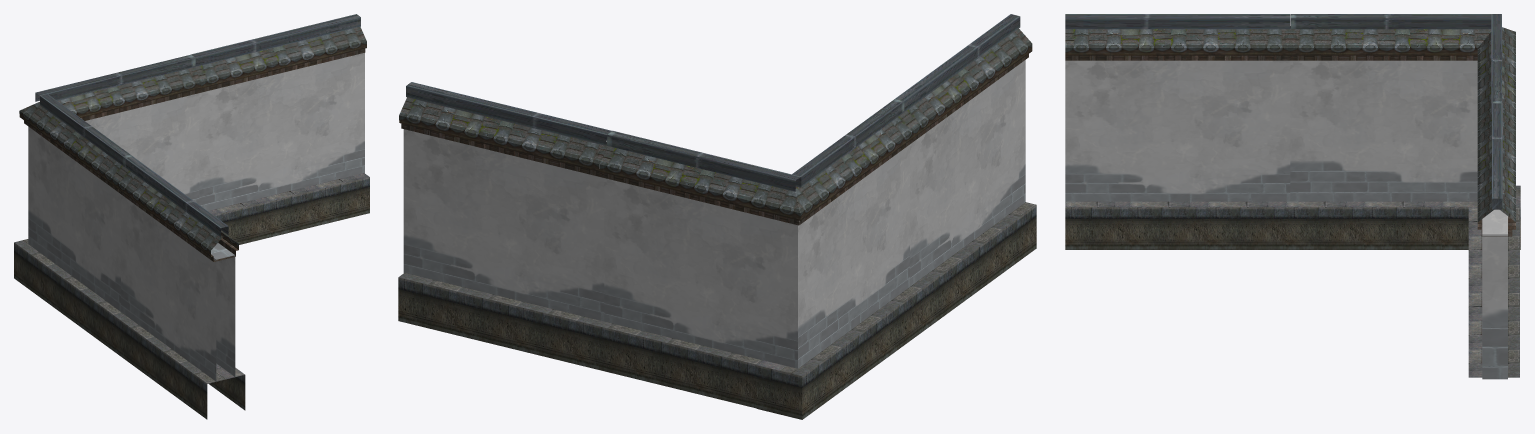
The model's file is house03.fbx.
The picture shows the model from 3 angles, left to right: view 1: azimuth 30°, elevation 25°; view 2: azimuth 150°, elevation 25°; view 3: azimuth 270°, elevation 25°; orthographic projection. The views are drawn at different scales.
Visible parts, largest first — view 1: Box223, Box212, Box215, Box221, Box220, Box222, Box224, Box217, Box213, Box219, Box225, Box218 (+2 smaller); view 2: Box223, Box220, Box222, Box212, Box215, Box221, Box224, Box217, Box213, Box219, Box225, Box218 (+2 smaller); view 3: Box212, Box215, Box221, Box213, Box219, Box223, Box222, Box214, Box216, Box224, Box217, Box225 (+1 smaller).
Part boxes in pixels (<box>): Box223: <box>199,53,364,210</box>; Box212: <box>121,194,235,382</box>; Box215: <box>28,126,120,311</box>; Box221: <box>14,239,245,419</box>; Box220: <box>85,93,199,204</box>; Box222: <box>208,173,369,244</box>; Box224: <box>195,26,366,92</box>; Box217: <box>19,67,201,122</box>; Box213: <box>115,168,238,261</box>; Box219: <box>19,102,125,191</box>; Box225: <box>191,14,360,66</box>; Box218: <box>35,54,195,101</box>; Box223: <box>403,129,604,321</box>; Box220: <box>604,178,797,368</box>; Box222: <box>398,273,762,408</box>; Box212: <box>910,60,1025,286</box>; Box215: <box>798,144,909,368</box>; Box221: <box>756,202,1036,419</box>; Box224: <box>399,97,607,177</box>; Box217: <box>600,146,800,225</box>; Box213: <box>903,29,1032,141</box>; Box219: <box>795,113,916,225</box>; Box225: <box>406,82,611,145</box>; Box218: <box>607,130,801,191</box>; Box212: <box>1065,60,1290,201</box>; Box215: <box>1290,60,1477,201</box>; Box221: <box>1065,185,1520,249</box>; Box213: <box>1065,29,1290,60</box>; Box219: <box>1290,26,1491,60</box>; Box223: <box>1482,209,1507,379</box>; Box222: <box>1468,207,1519,377</box>; Box214: <box>1065,14,1290,29</box>; Box216: <box>1291,14,1491,29</box>; Box224: <box>1477,116,1515,236</box>; Box217: <box>1477,27,1515,126</box>; Box225: <box>1492,103,1502,209</box>.
Bounding box in the file's own units: 947 × 509 × 947.
